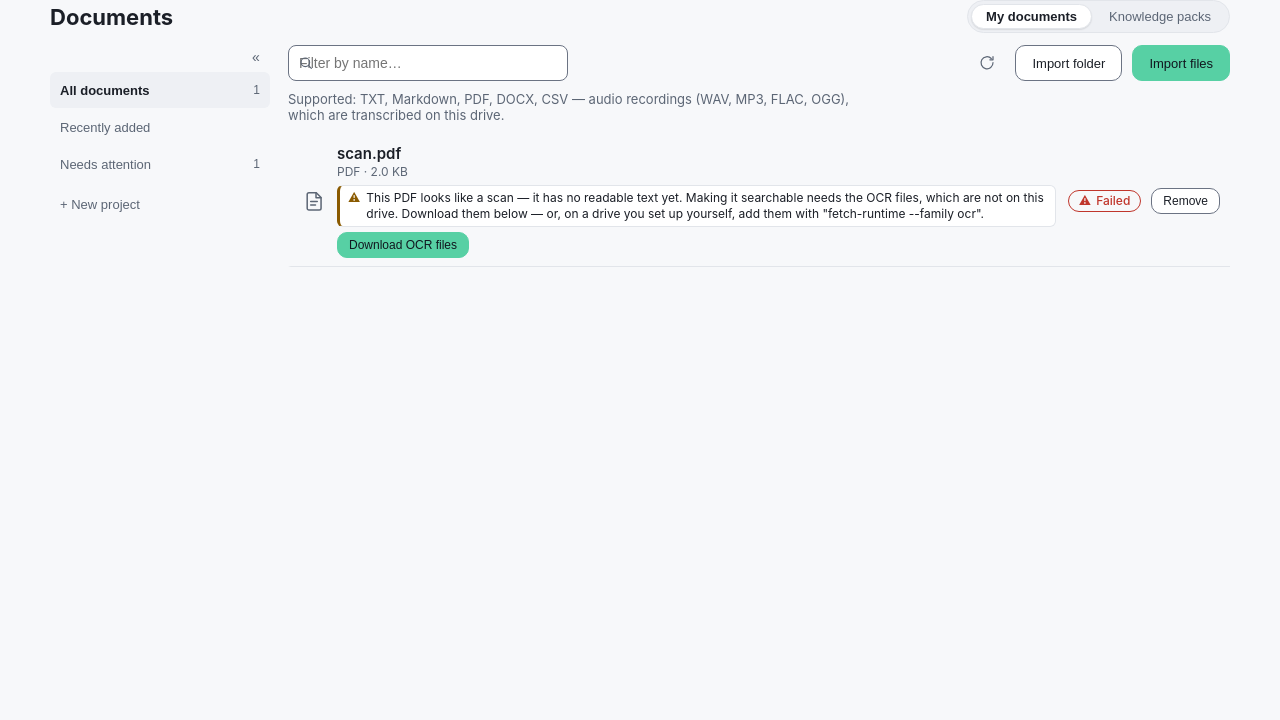
it: OcrInstall — Documents rows (#410) › 8b: while the engine is being started (activating) there is no Cancel — the files are already in place
The width and height of the screenshot is (1280, 720).
Click the button "Download OCR files" at (403, 245), box [337, 232, 469, 258]
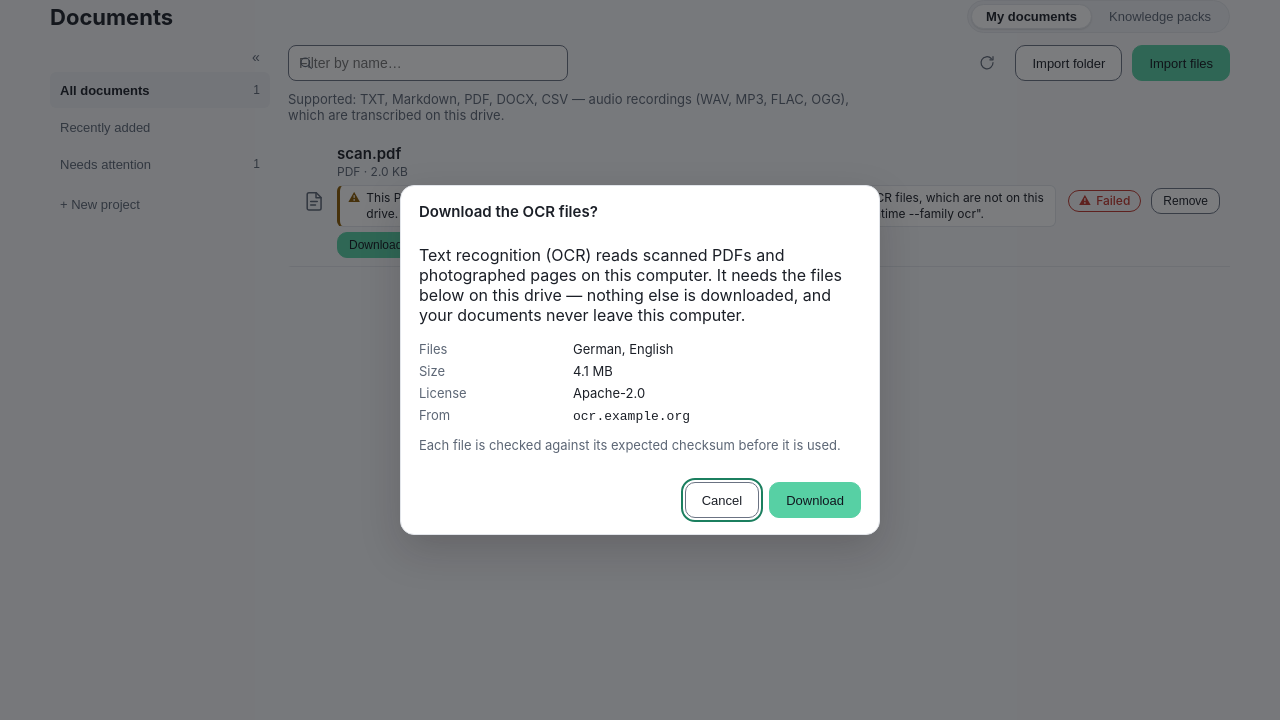
Click the button "Download" at (815, 500), box [769, 482, 861, 518]
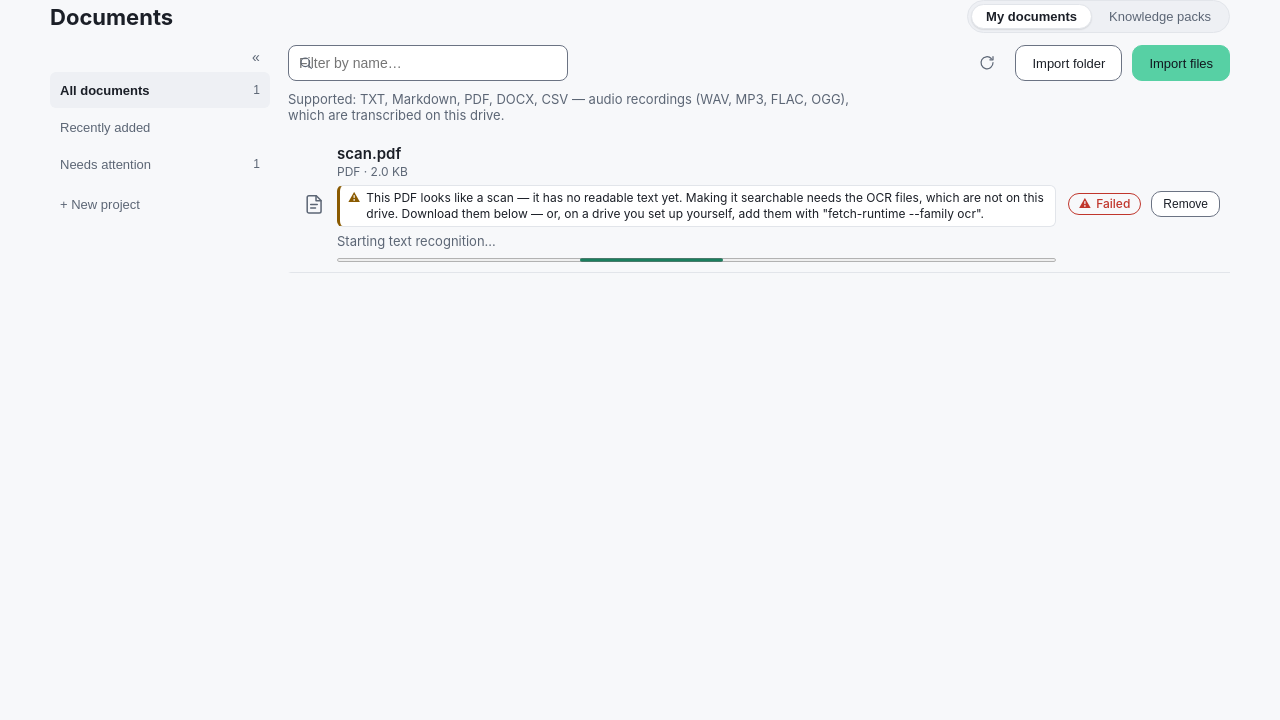
Expected: the text "Starting text recognition…" is shown, [337, 233, 496, 249]
